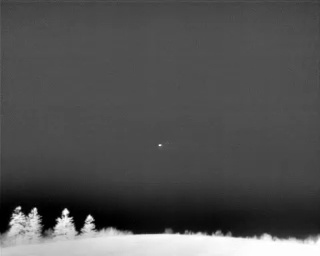BIRD: (156, 141, 164, 150)
